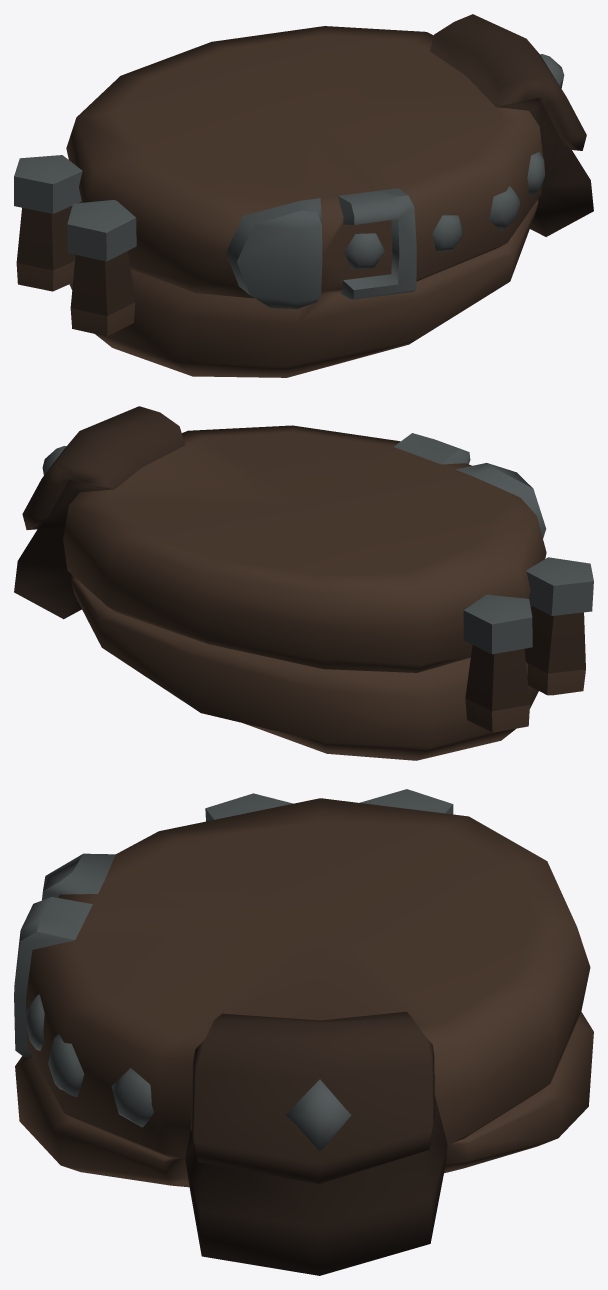
Rendered from Top_52.fbx.
The picture shows the model from 3 angles, top to bottom: view 1: azimuth 30°, elevation 25°; view 2: azimuth 150°, elevation 25°; view 3: azimuth 270°, elevation 25°; orthographic projection. The views are drawn at different scales.
Parts seen in each view (by area): view 1: Top_52; view 2: Top_52; view 3: Top_52.
Part boxes in pixels (box(x1,y1,x2,y2)): Top_52: box(14, 14, 593, 377); Top_52: box(14, 406, 593, 760); Top_52: box(14, 789, 593, 1275).
Size of the model in its own units: 56.26 by 21.32 by 39.51.
